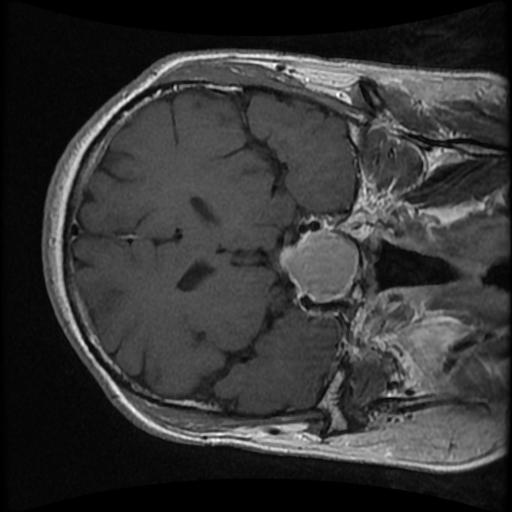pituitary tumour: (280, 228, 358, 303)
